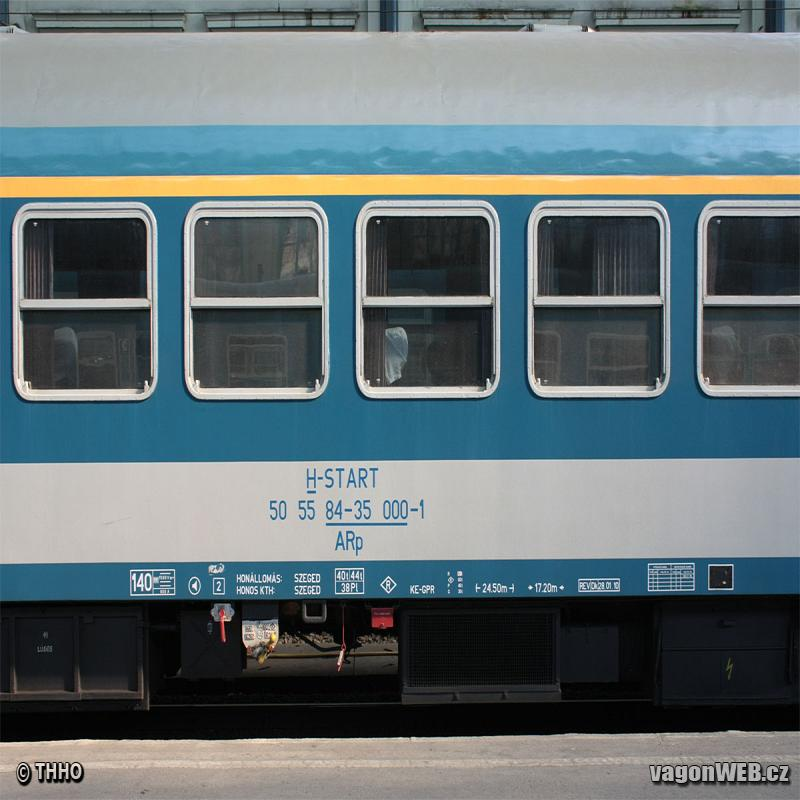train: (3, 27, 800, 719)
